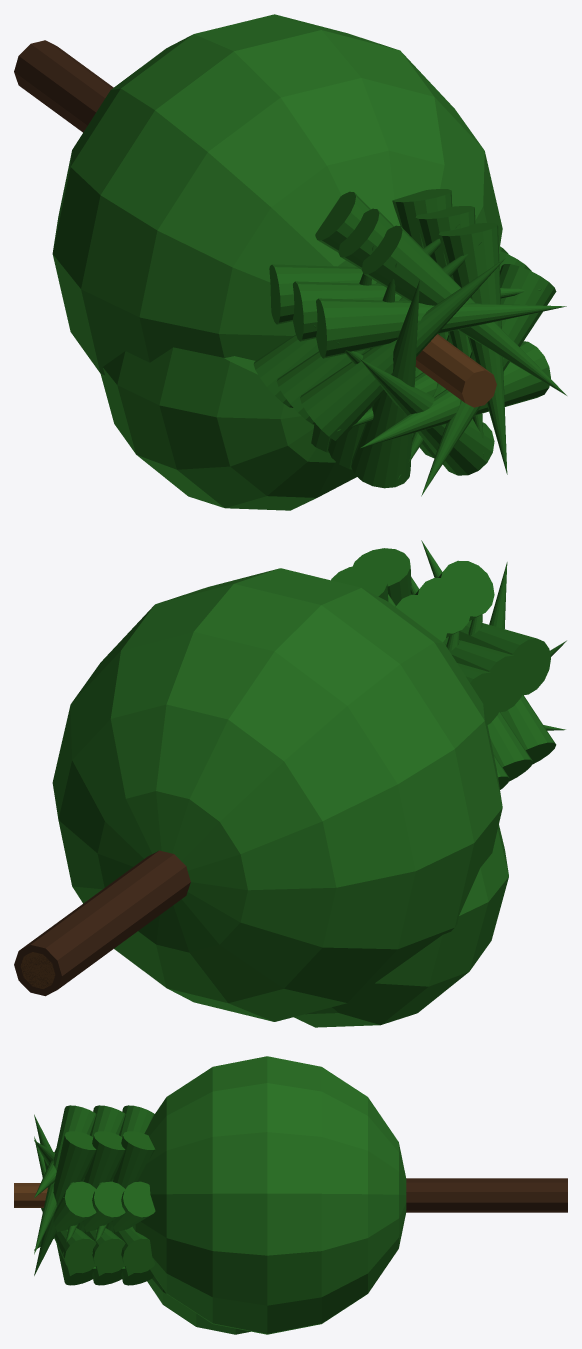
Rendered from entorno_flora.obj.
The picture shows the model from 3 angles, top to bottom: view 1: azimuth 30°, elevation 25°; view 2: azimuth 150°, elevation 25°; view 3: azimuth 270°, elevation 25°; orthographic projection. The views are drawn at different scales.
Visible parts, largest first — view 1: Export_Flora; view 2: Export_Flora; view 3: Export_Flora.
Boxes of the visible parts, x1,y1,x2,y2 form: Export_Flora: (14, 14, 566, 510); Export_Flora: (14, 540, 566, 1027); Export_Flora: (14, 1056, 567, 1334).
Size of the model in its own units: 3.6 by 3.75 by 7.
